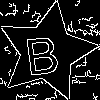B: (22, 27, 61, 76)
